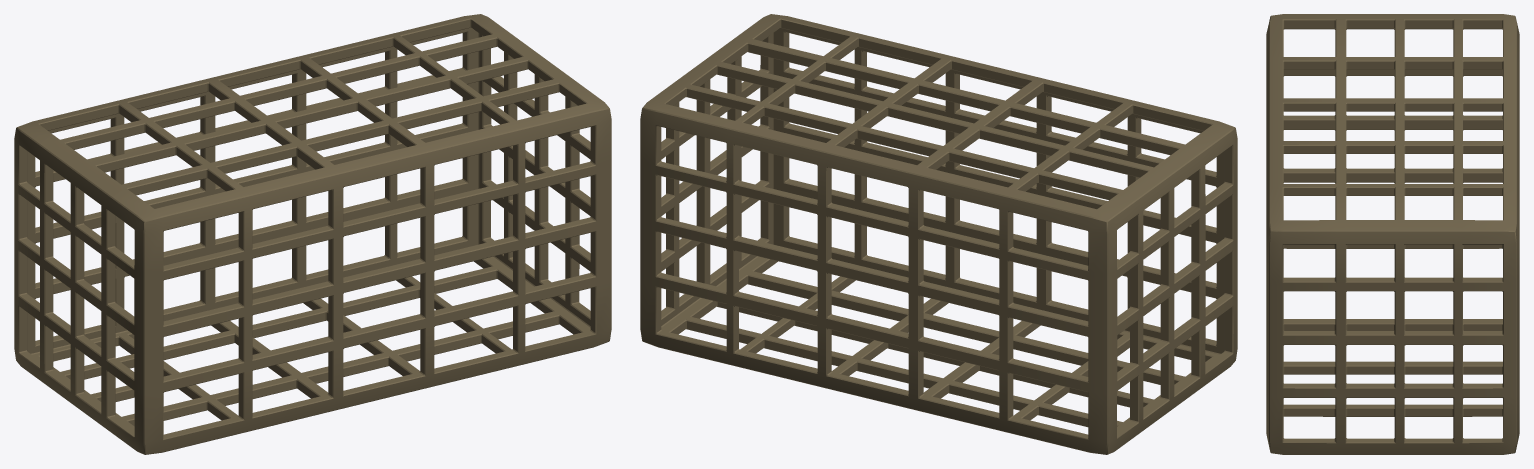
Rendered from nasse.gltf.
The picture shows the model from 3 angles, left to right: view 1: azimuth 30°, elevation 25°; view 2: azimuth 150°, elevation 25°; view 3: azimuth 270°, elevation 25°; orthographic projection. The views are drawn at different scales.
Parts seen in each view (by area): view 1: Cube; view 2: Cube; view 3: Cube.
Boxes of the visible parts, box(x1,y1,x2,y2) form: Cube: box(14, 14, 611, 454); Cube: box(640, 14, 1237, 454); Cube: box(1266, 14, 1519, 454).
Size of the model in its own units: 3.07 by 1.5 by 1.5.
